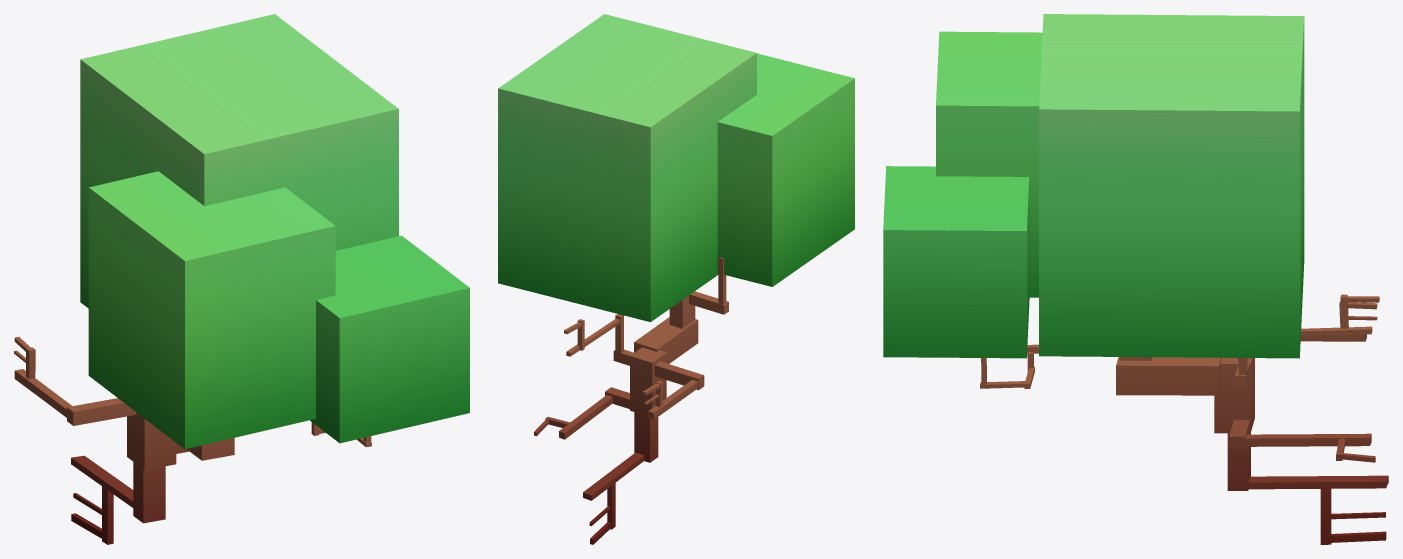
The model's file is SM_Arbre1.FBX.
3 views of the same model, side by side, from view 1: azimuth 30°, elevation 25°; view 2: azimuth 150°, elevation 25°; view 3: azimuth 270°, elevation 25° (orthographic). The views are drawn at different scales.
Visible parts, largest first — view 1: Box018, Box030, Box019, Box033; view 2: Box030, Box018, Box033; view 3: Box030, Box019, Box018, Box033.
Boxes of the visible parts, x1,y1,x2,y2 form: Box018: (88, 171, 335, 449); Box030: (80, 14, 398, 308); Box019: (310, 235, 469, 443); Box033: (14, 336, 371, 544); Box030: (498, 14, 756, 321); Box018: (717, 53, 854, 286); Box033: (534, 257, 728, 544); Box030: (1039, 14, 1304, 358); Box019: (883, 166, 1029, 358); Box018: (936, 31, 1042, 297); Box033: (980, 294, 1388, 544).
Bounding box in the file's own units: 326 × 583 × 525.
